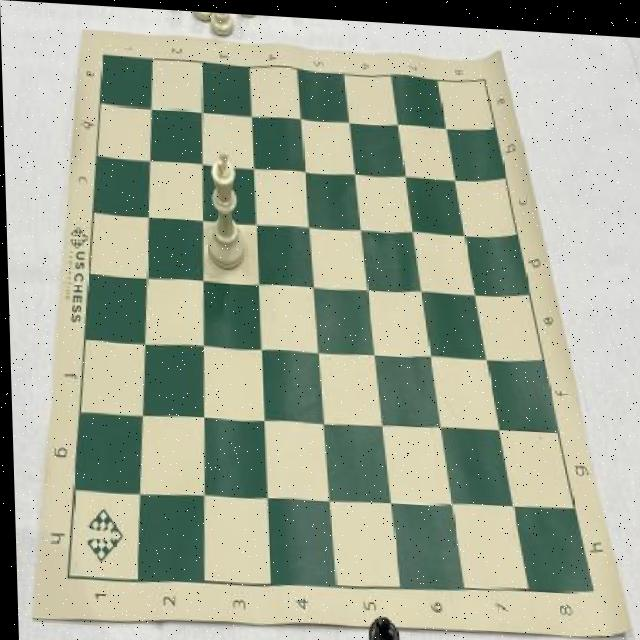white-bishop: (202, 143, 248, 272)
